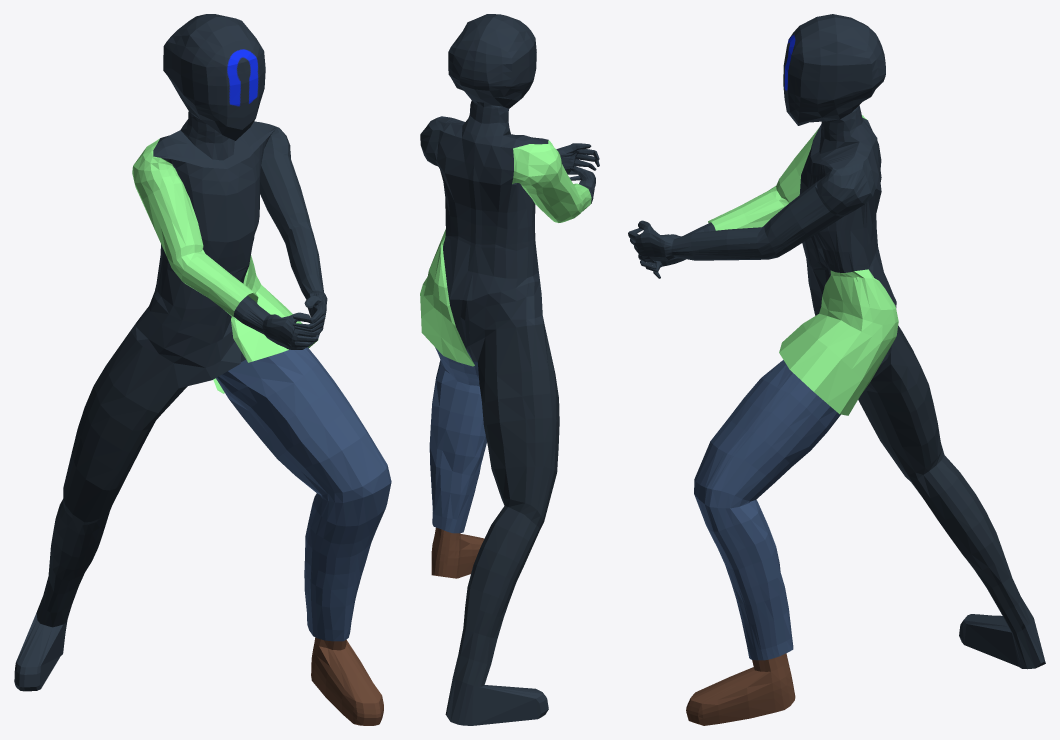
Rendered from Mar_WL_000011.obj.
3 views of the same model, side by side, from view 1: azimuth 30°, elevation 25°; view 2: azimuth 150°, elevation 25°; view 3: azimuth 270°, elevation 25° (orthographic). The views are drawn at different scales.
Visible parts, largest first — view 1: Cube.000_Cube.001; view 2: Cube.000_Cube.001; view 3: Cube.000_Cube.001.
Part boxes in pixels (box(x1,y1,x2,y2)): Cube.000_Cube.001: box(14, 14, 391, 725); Cube.000_Cube.001: box(420, 14, 599, 725); Cube.000_Cube.001: box(628, 14, 1045, 725).
Bounding box in the file's own units: 1.35 × 3.72 × 2.07.
